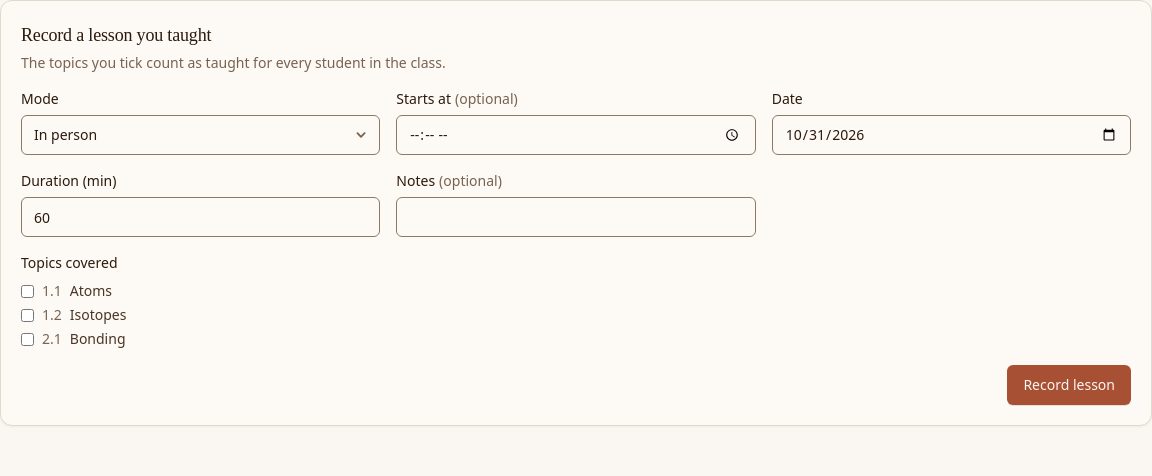
Test: the saved status clears on the next edit
The image size is (1152, 476).
Expected: the checkbox labelled "1.1 Atoms" is shown, [21,284,34,298]
Click the button "Record lesson": (1069, 385) [1007,365,1131,405]
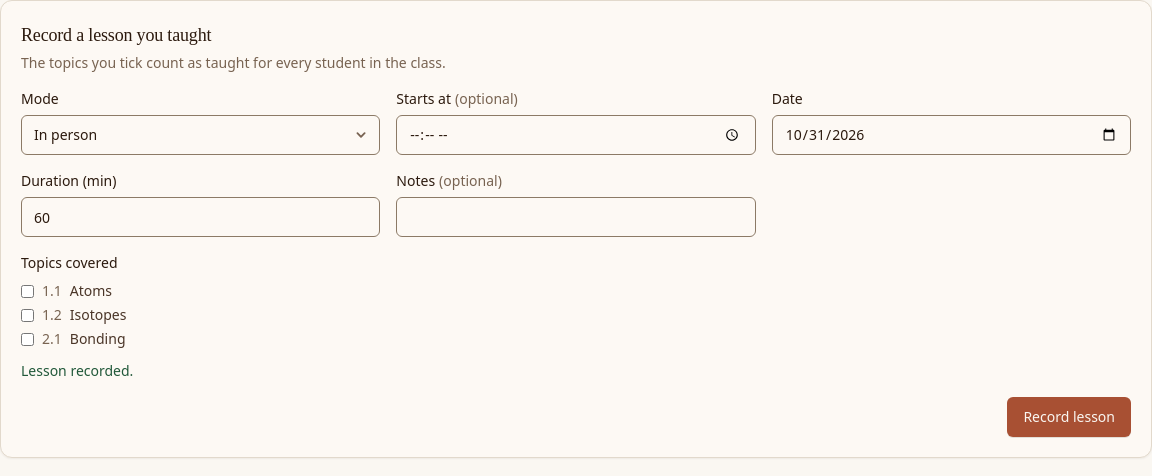
Result: the message "Lesson recorded." is shown at [21,361,133,380]
Click the checkbox labelled "1.1 Atoms": (28, 291) [21,284,34,298]
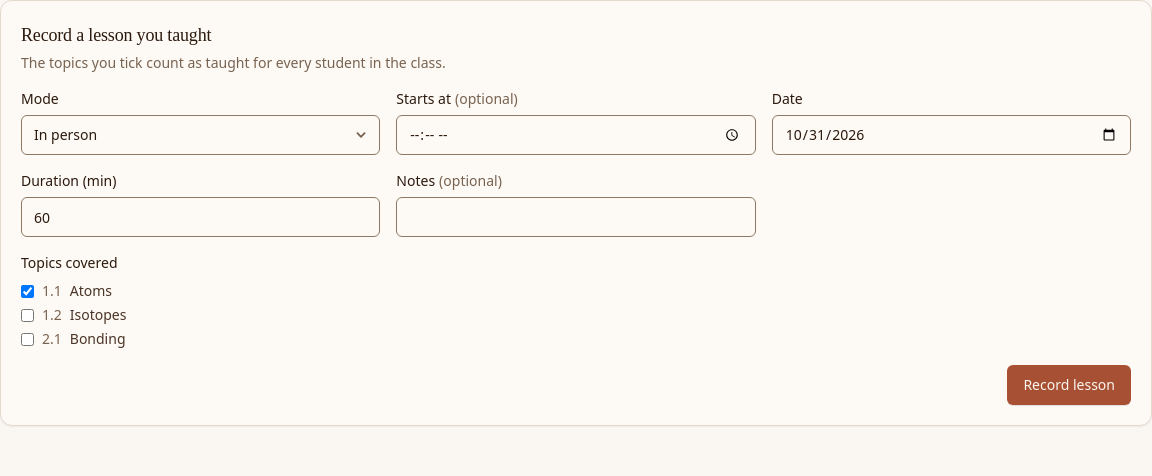
Result: the message "Lesson recorded." is gone
